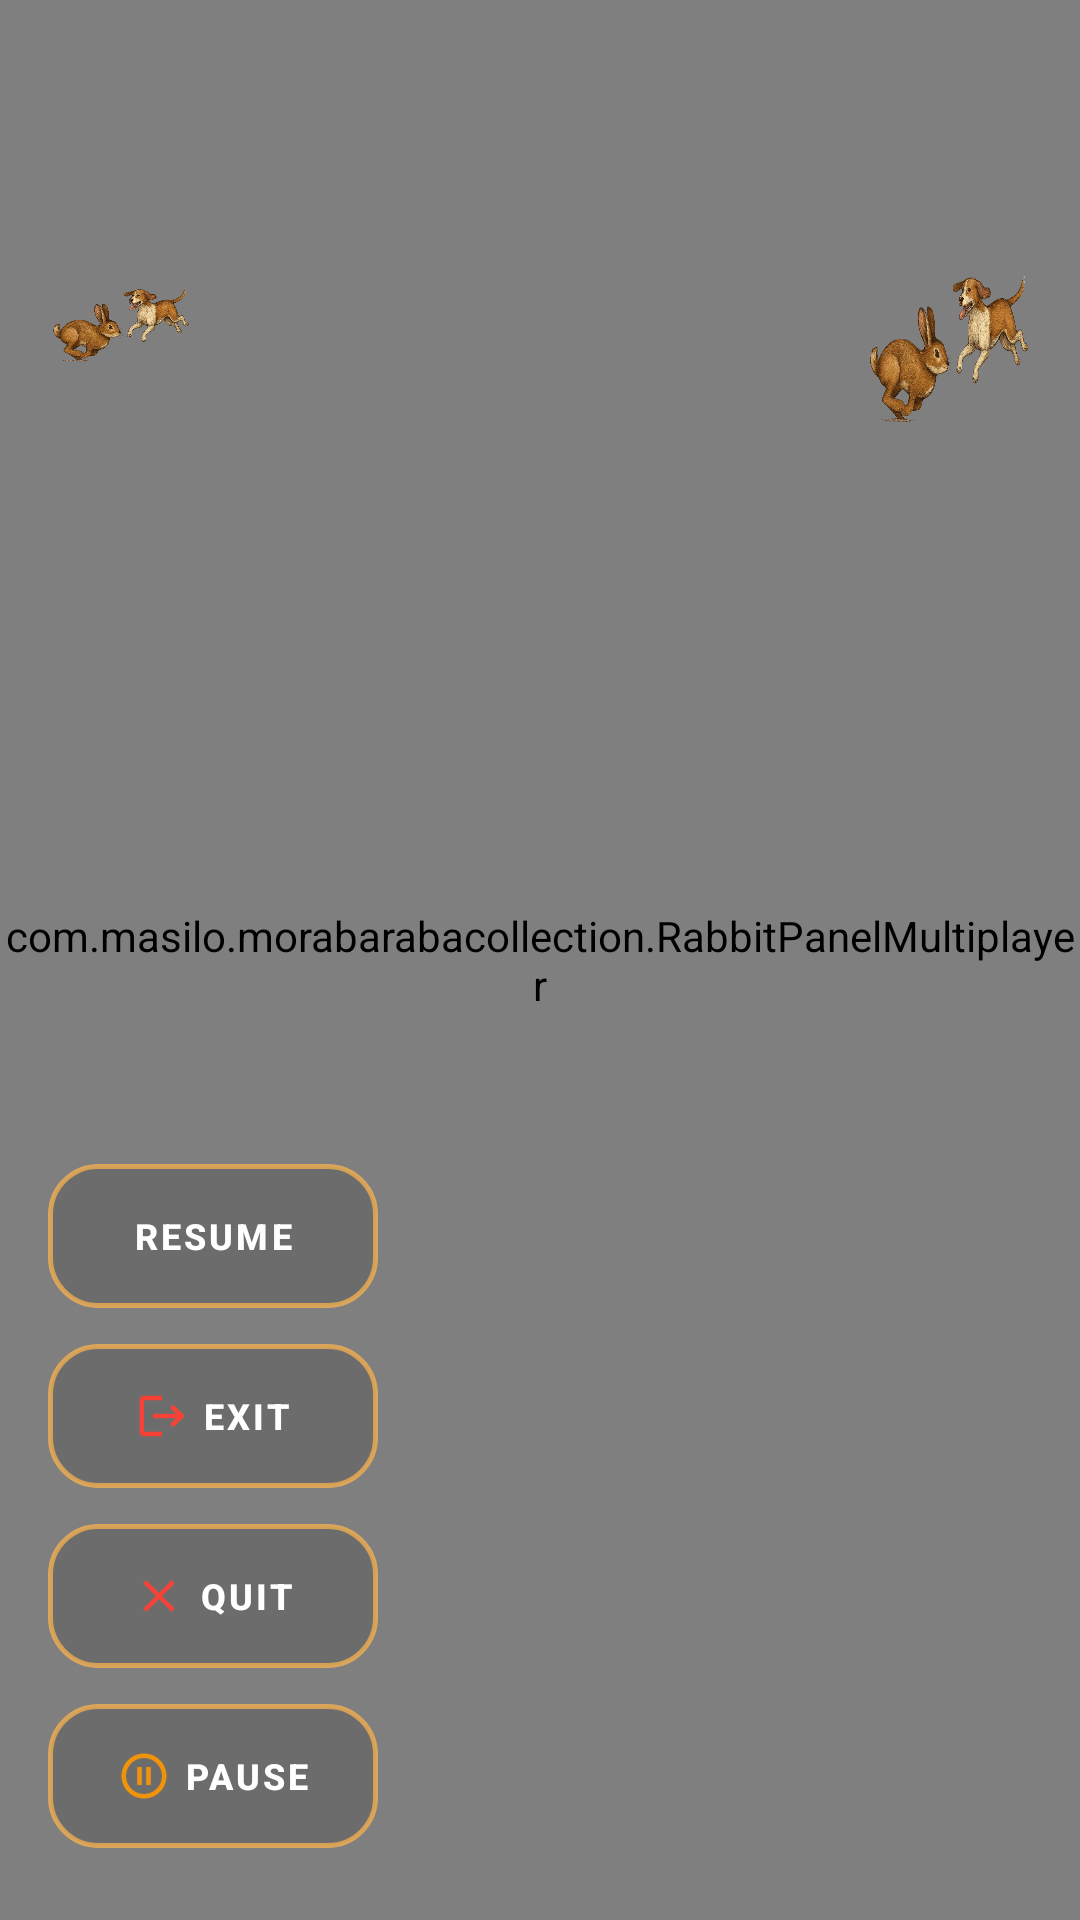

Named icons in this screenshot (1080 x 1920) and their bounding boxes, (x1, y1, x2, y2):
chase rabbit: (870, 276, 1028, 422), (53, 289, 189, 361)
